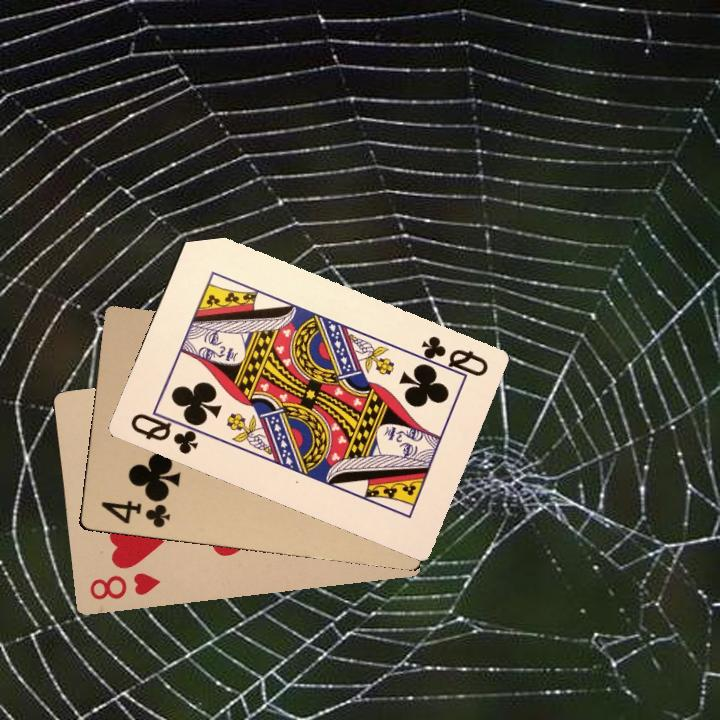4c: (97, 493, 173, 530)
8h: (85, 568, 163, 603)
Qc: (126, 405, 206, 457), (409, 331, 491, 381)
